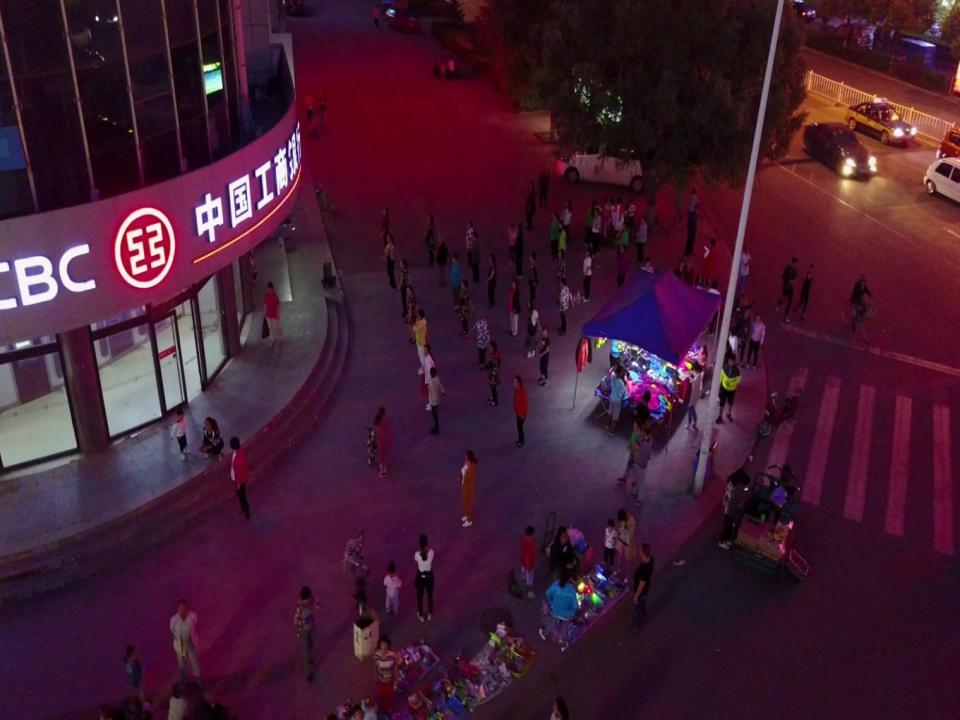car: (553, 135, 649, 189), (800, 120, 876, 180), (845, 95, 918, 146), (922, 156, 960, 202)
